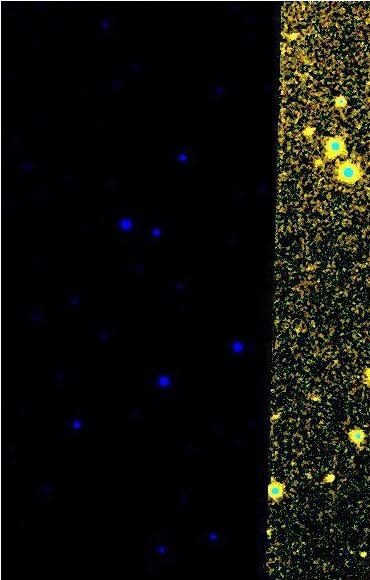star: (353, 361, 370, 391)
